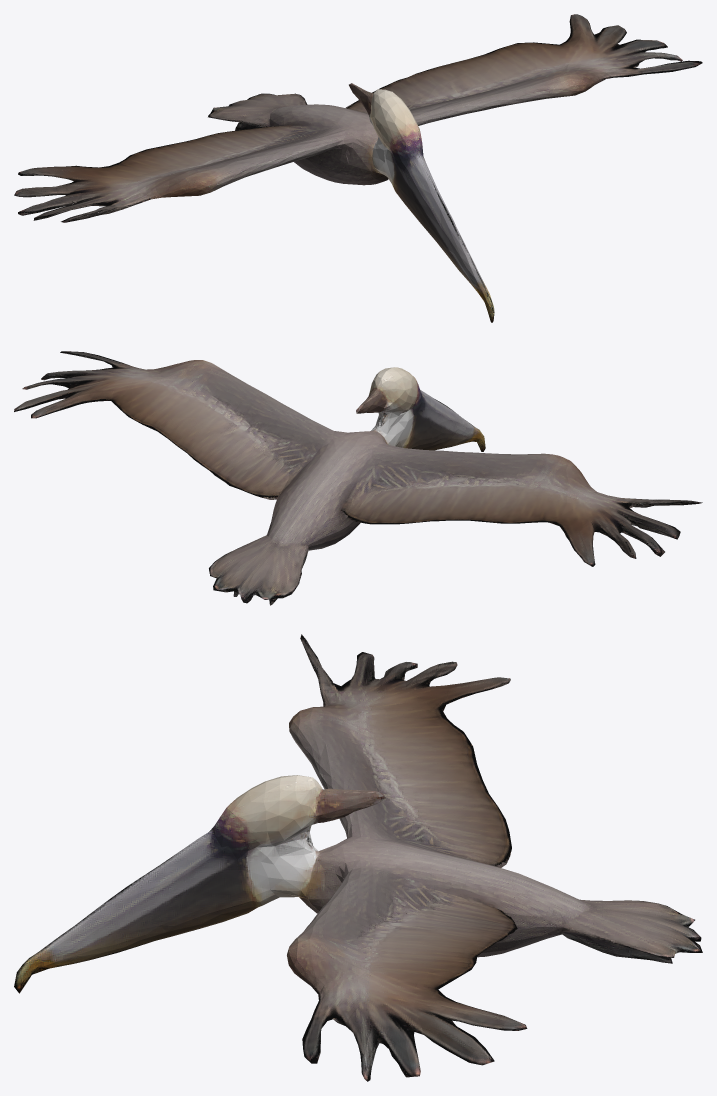
The model's file is pelican.glb.
The picture shows the model from 3 angles, top to bottom: view 1: azimuth 30°, elevation 25°; view 2: azimuth 150°, elevation 25°; view 3: azimuth 270°, elevation 25°; orthographic projection. The views are drawn at different scales.
Visible parts, largest first — view 1: geometry_0; view 2: geometry_0; view 3: geometry_0.
Part boxes in pixels (x1,y1,x2,y2): geometry_0: (14,14,702,322); geometry_0: (14,351,702,605); geometry_0: (14,634,702,1081).
Size of the model in its own units: 0.9999 by 0.2334 by 0.6795.
1 material, 1 textured.
